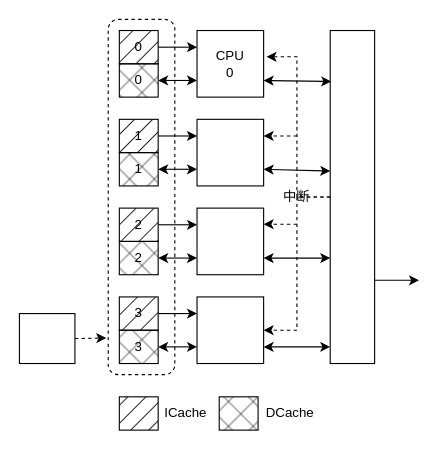
The diagram is 447 pixels wide and 450 high, and some of its shapes have lost their labels. The centre of each missing label's shape, as x and y in pixels:
"CPU 1" belongs at pixel 230 152.
"CPU 2" belongs at pixel 230 241.
"CPU 3" belongs at pixel 230 330.
"shared memory & 外设" belongs at pixel 352 196.
"下载" belongs at pixel 46 338.
